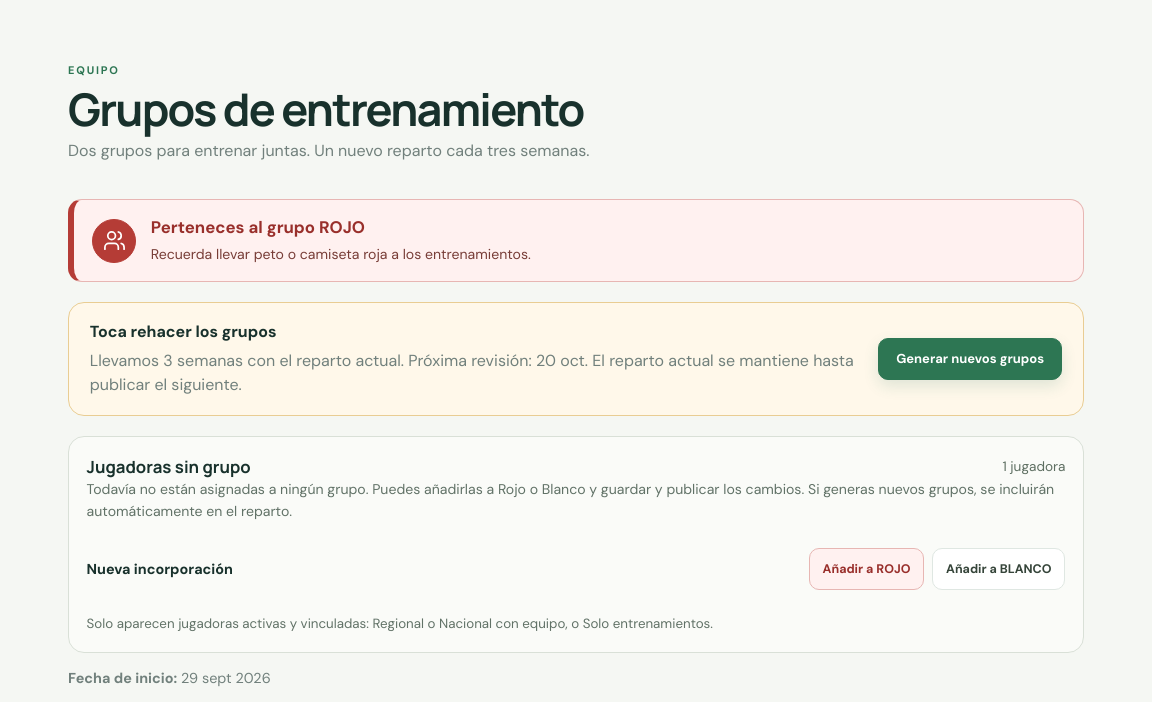
Test: TrainingGroupsView › muestra las altas bajo la renovación y permite añadirlas directamente como entrenador
The width and height of the screenshot is (1152, 702).
expect the text "Nueva incorporación" is shown: met, box [87,560,233,578]
expect the button "Guardar borrador" is not shown: met
Click the button with aria-label "Añadir a Nueva incorporación al grupo BLANCO": click(999, 569) [932,548,1065,590]
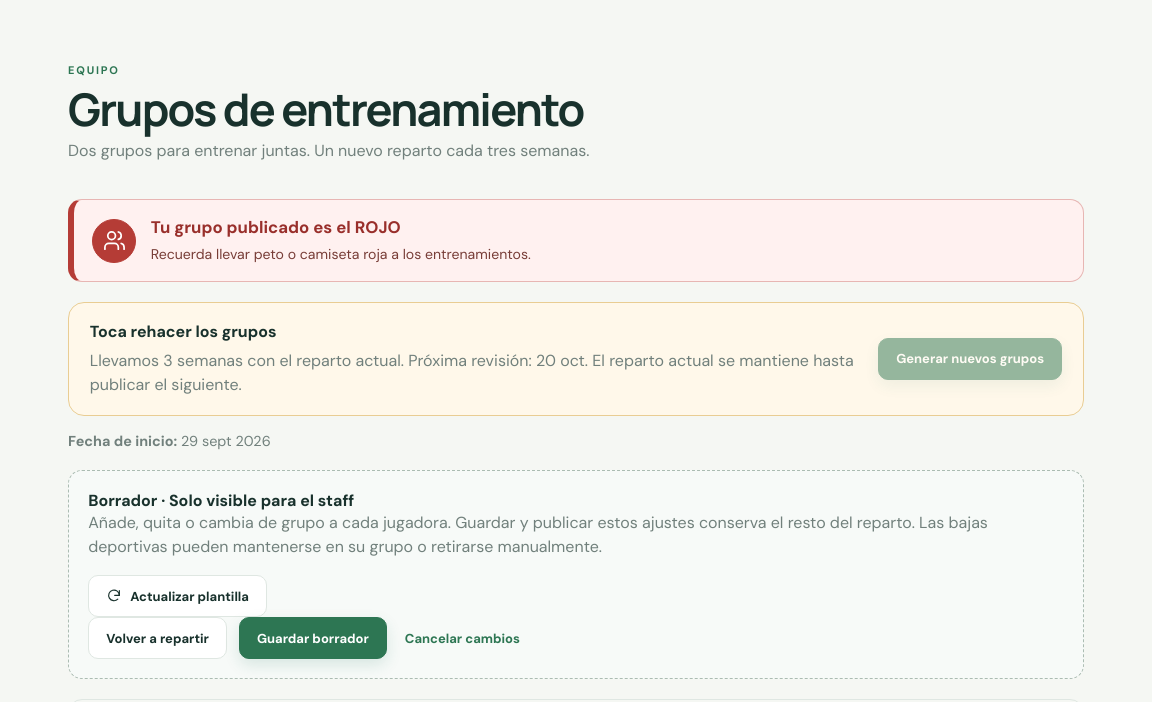
expect the heading "Jugadoras sin grupo" is gone: met
expect the button "Guardar borrador" is enabled: met
Click the button "Guardar borrador": click(313, 638) [239,617,387,659]
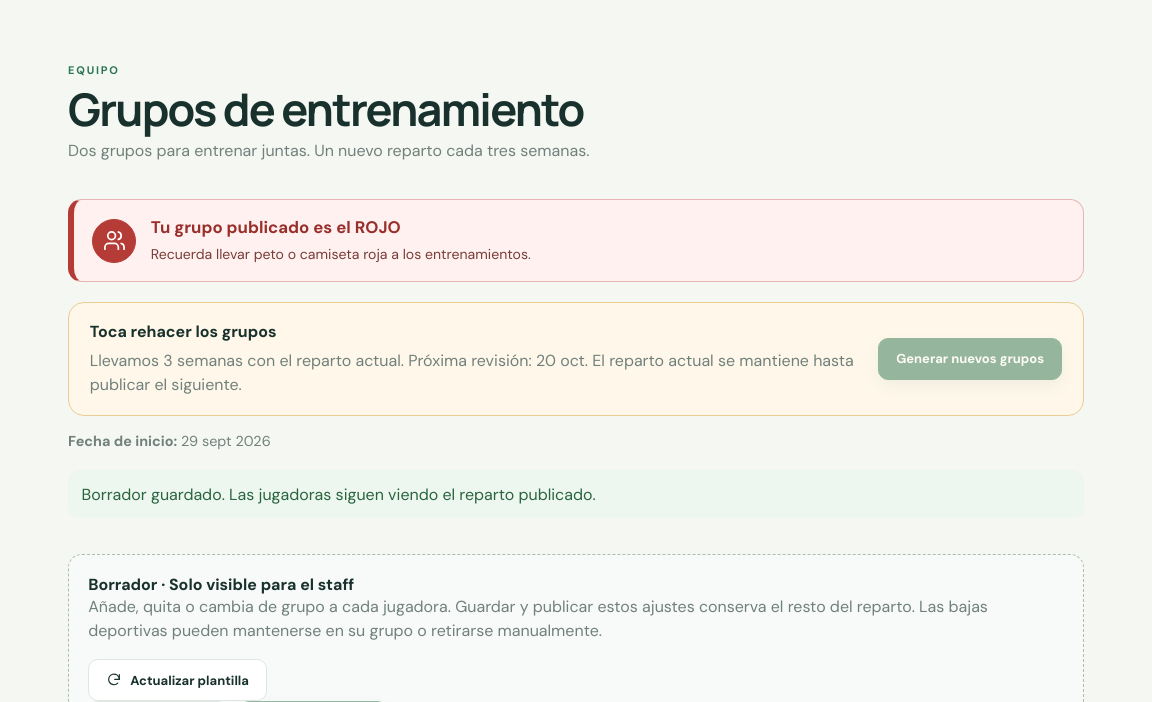
expect the text "Borrador guardado. Las jugadoras siguen viendo el reparto publicado." is shown: met, box [68,470,1084,518]
